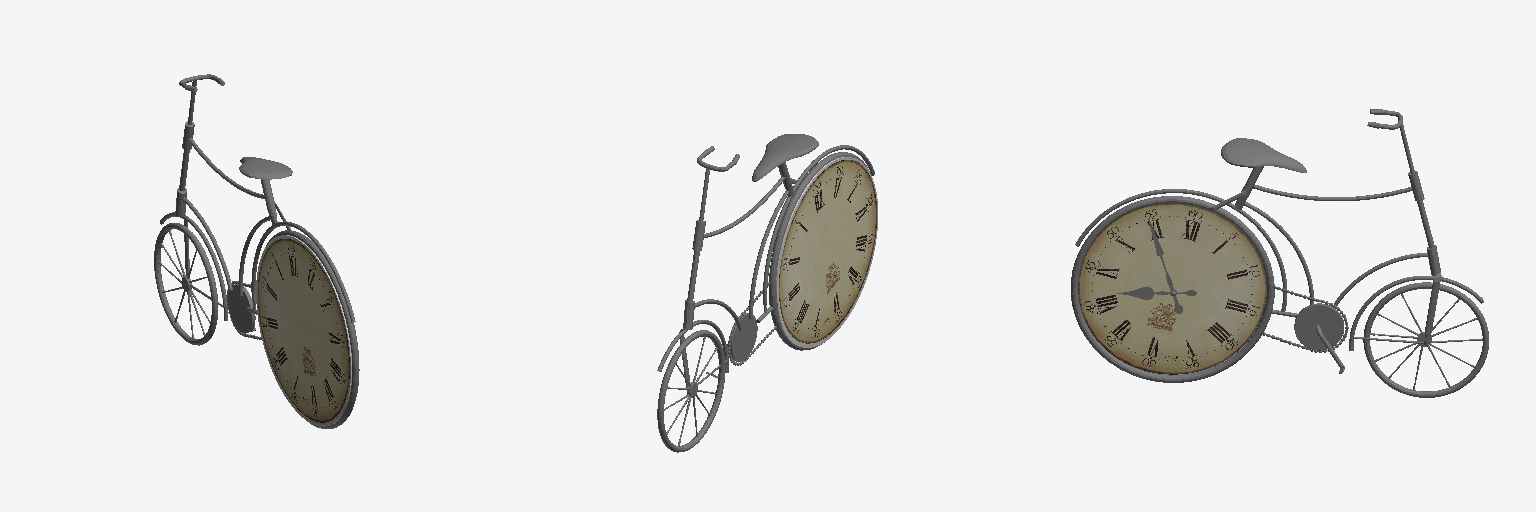
3 views of the same model, side by side, from view 1: azimuth 30°, elevation 25°; view 2: azimuth 150°, elevation 25°; view 3: azimuth 270°, elevation 25° (orthographic).
Parts seen in each view (by area): view 1: Reloj, CuerpoBici, CuerpoBici2, RuedaPequena, Platos, Sillin; view 2: Reloj, CuerpoBici, CuerpoBici2, RuedaPequena, Sillin, Platos; view 3: Reloj, CuerpoBici, CuerpoBici2, RuedaPequena, Platos, Sillin.
Part boxes in pixels (left/top/right/bottom): Reloj: left=256, top=235, right=351, bottom=426; CuerpoBici: left=175, top=121, right=359, bottom=428; CuerpoBici2: left=158, top=74, right=355, bottom=338; RuedaPequena: left=154, top=223, right=217, bottom=345; Platos: left=228, top=284, right=255, bottom=332; Sillin: left=239, top=157, right=292, bottom=179; Reloj: left=776, top=157, right=877, bottom=347; CuerpoBici: left=680, top=152, right=871, bottom=387; CuerpoBici2: left=657, top=145, right=874, bottom=446; RuedaPequena: left=657, top=330, right=725, bottom=452; Sillin: left=752, top=134, right=818, bottom=181; Platos: left=728, top=313, right=757, bottom=361; Reloj: left=1078, top=204, right=1266, bottom=375; CuerpoBici: left=1071, top=166, right=1441, bottom=382; CuerpoBici2: left=1075, top=109, right=1483, bottom=390; RuedaPequena: left=1363, top=282, right=1488, bottom=397; Platos: left=1294, top=303, right=1343, bottom=350; Sillin: left=1221, top=138, right=1306, bottom=172.
Bounding box in the file's own units: 0.2471 × 1.1 × 1.49.
4 materials, 1 textured.